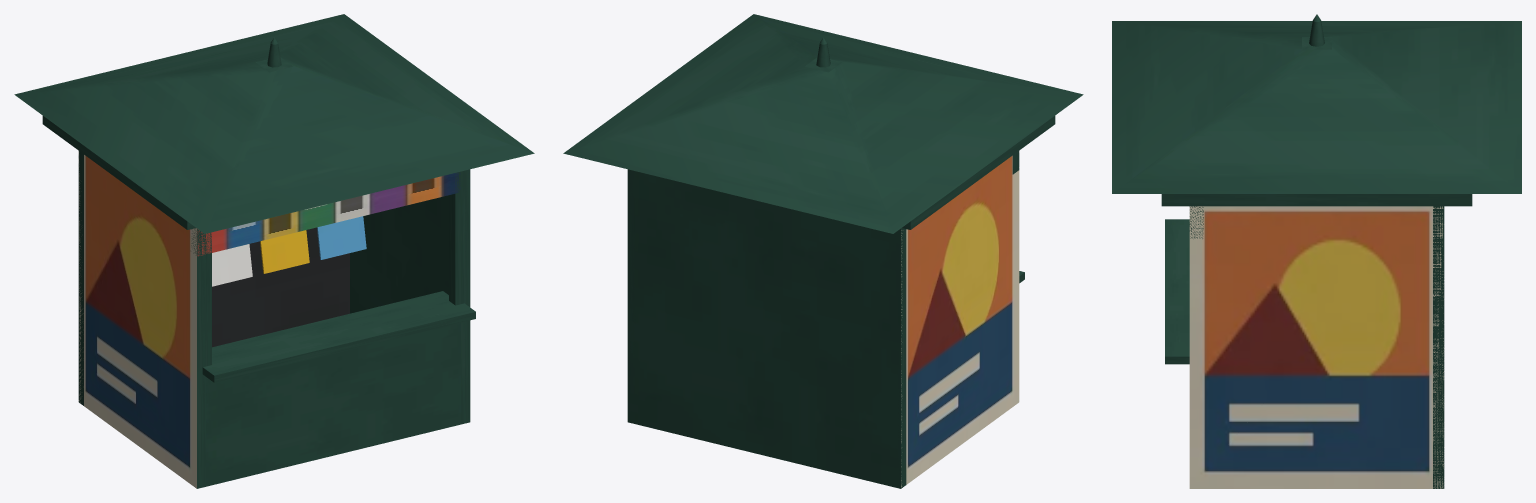
The model's file is kiosque_journaux_lod0.glb.
The picture shows the model from 3 angles, left to right: view 1: azimuth 30°, elevation 25°; view 2: azimuth 150°, elevation 25°; view 3: azimuth 270°, elevation 25°; orthographic projection. The views are drawn at different scales.
Parts seen in each view (by area): view 1: kiosque_journaux; view 2: kiosque_journaux; view 3: kiosque_journaux.
Boxes of the visible parts, left/top/right/bottom form: kiosque_journaux: left=14, top=14, right=534, bottom=488; kiosque_journaux: left=563, top=14, right=1083, bottom=488; kiosque_journaux: left=1112, top=14, right=1521, bottom=488.
Size of the model in its own units: 2.9 by 3.15 by 2.9.
1 material, 1 textured.
